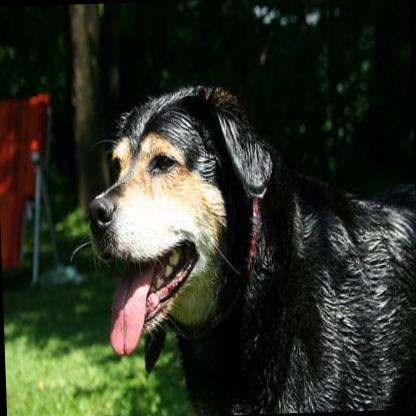Appenzeller: (62, 73, 416, 416)
